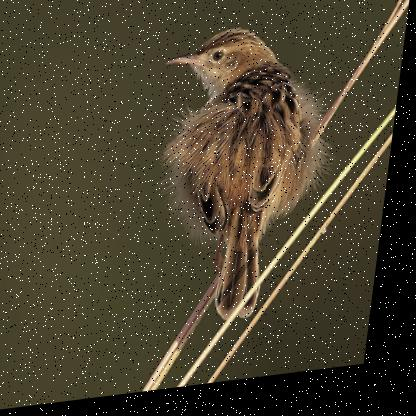Burung: (141, 23, 350, 337)
